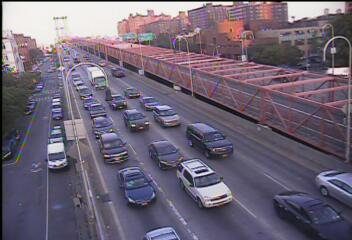neg: (111, 177, 152, 231), (285, 132, 323, 182), (43, 129, 75, 173), (125, 105, 155, 144), (246, 90, 274, 129), (193, 29, 221, 66), (280, 58, 306, 93), (218, 171, 243, 204), (168, 178, 193, 210), (75, 107, 97, 137), (189, 81, 209, 108), (125, 20, 144, 46), (100, 60, 119, 84), (56, 37, 74, 61)
